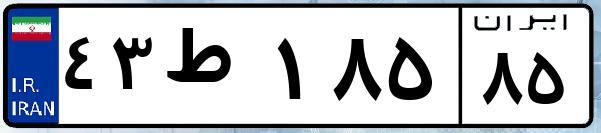1: (270, 28, 330, 110)
3: (110, 28, 158, 98)
4: (57, 26, 110, 100)
5: (385, 28, 445, 110), (525, 38, 570, 115)
8: (330, 28, 385, 110), (475, 38, 525, 113)
ط: (158, 20, 270, 120)
